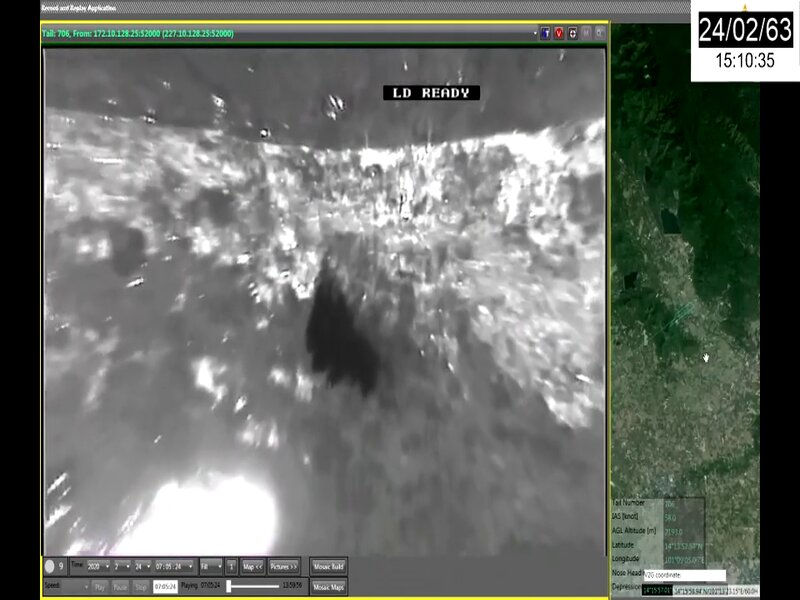Fire: (106, 469, 280, 555)
